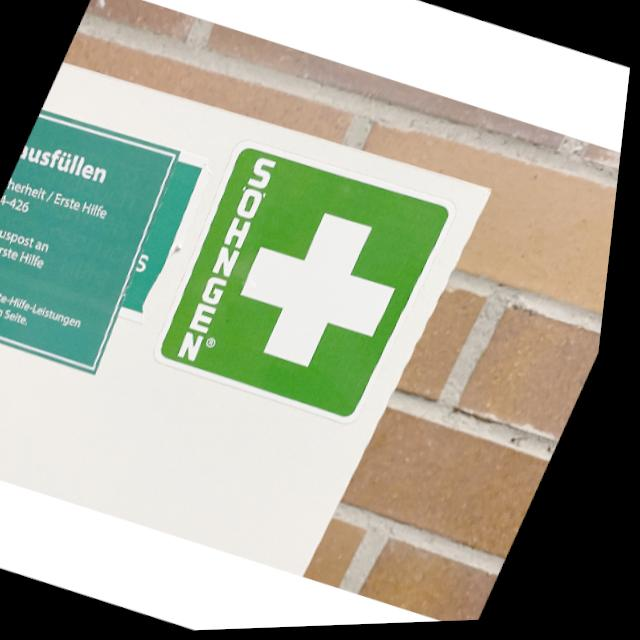first aid kit: (139, 129, 467, 437)
